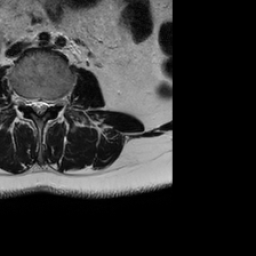CCS_normal: (36, 89, 43, 124)
LFS_normal: (51, 87, 60, 113)
LLS_normal: (43, 89, 51, 118)
RFS_normal: (20, 86, 28, 113)
RLS_normal: (28, 89, 36, 116)
